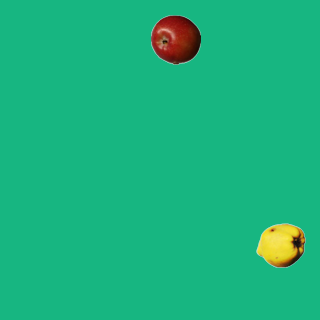Apple Braeburn: (150, 14, 200, 64)
Quince: (255, 220, 305, 270)
